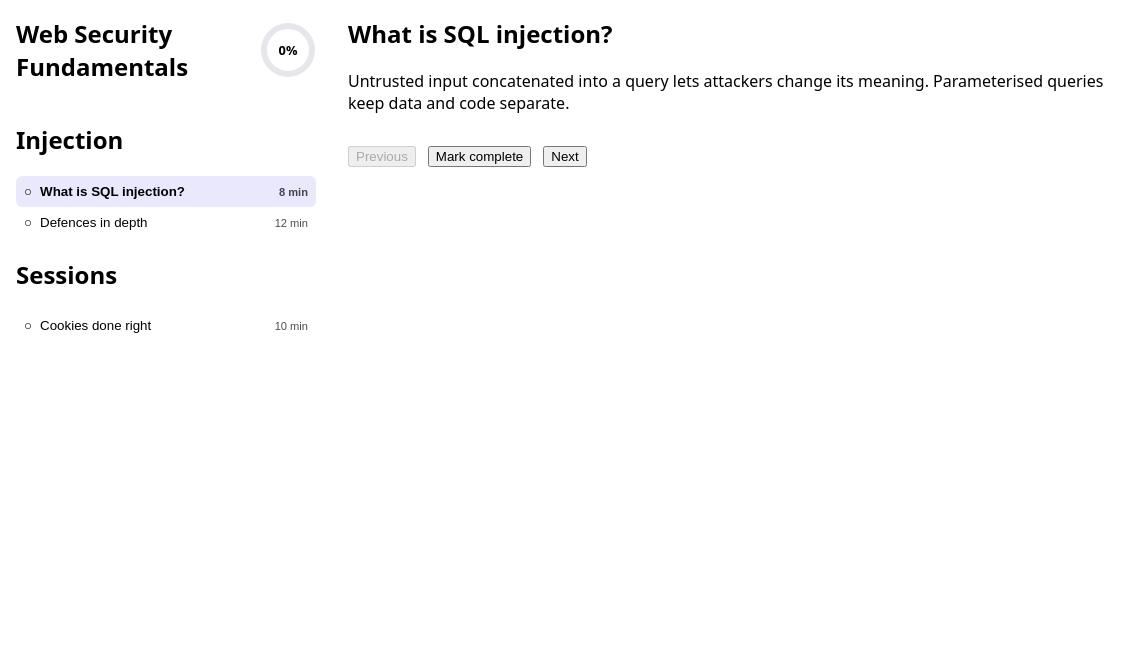
Test: CoursePlayer › gates completion on the quiz, tracks progress and persists it
Later steps or results of the test are not shown.
Expected: the heading "What is SQL injection?" is shown, [348,17,612,50]
Click the button "Mark complete".
click(480, 156)  # box [428,146,531,167]
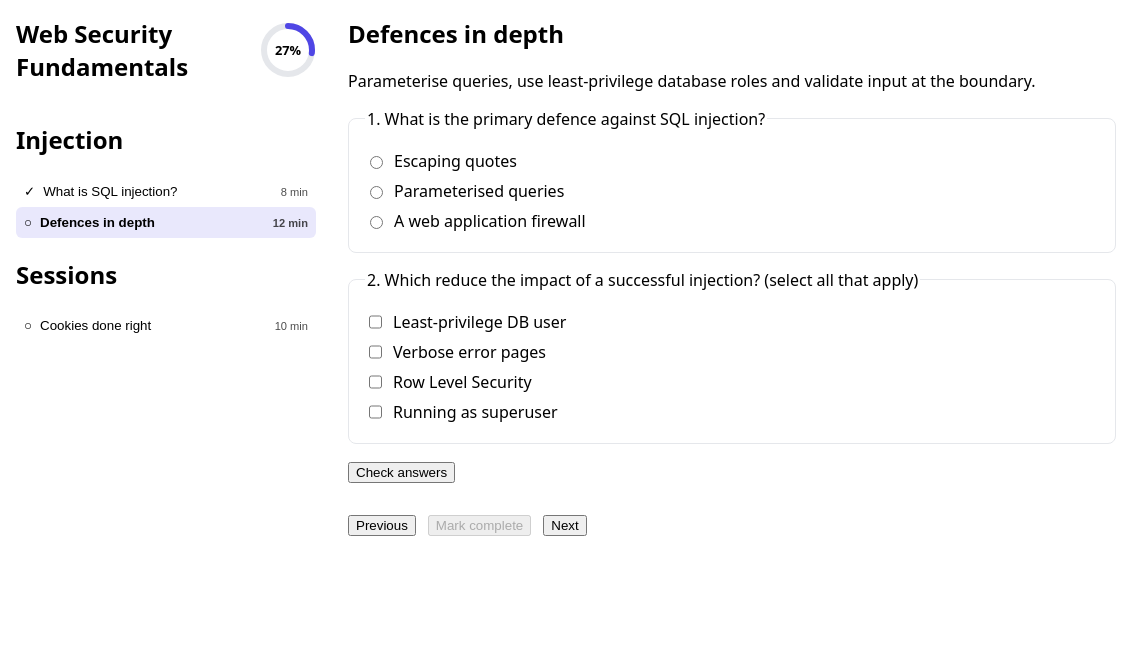
Expected: the button "Mark complete" is disabled, [428,515,531,536]
Click the radio button labelled "Parameterised queries".
click(376, 192)  # box [370,183,383,202]
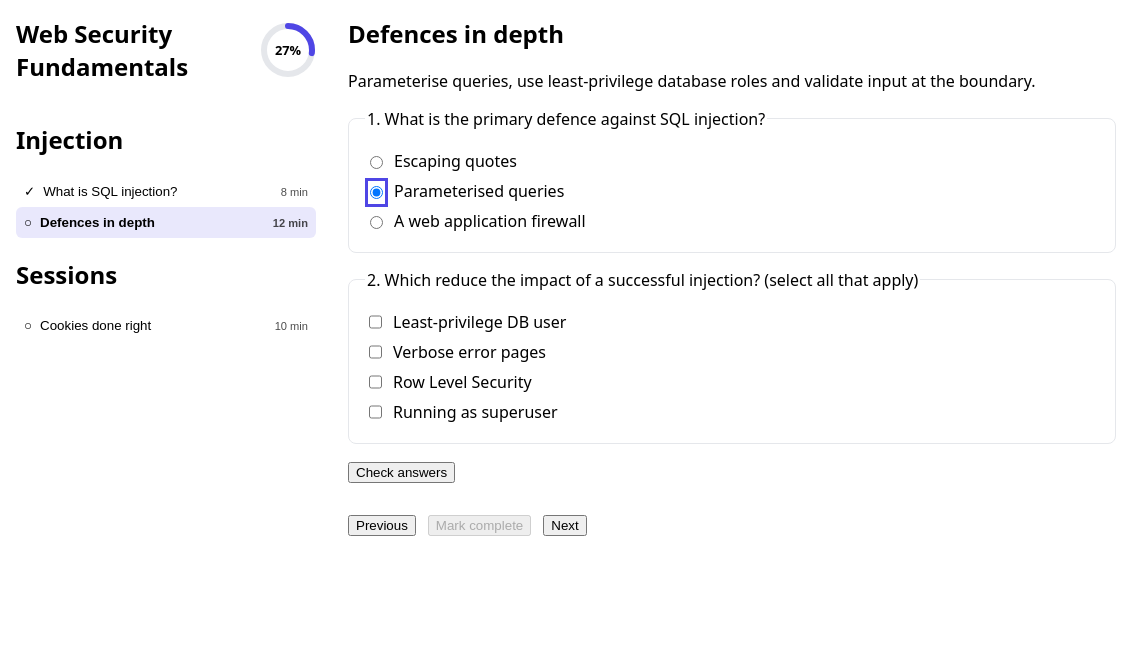
Click the checkbox labelled "Least-privilege DB user".
click(376, 322)  # box [369,314,382,330]
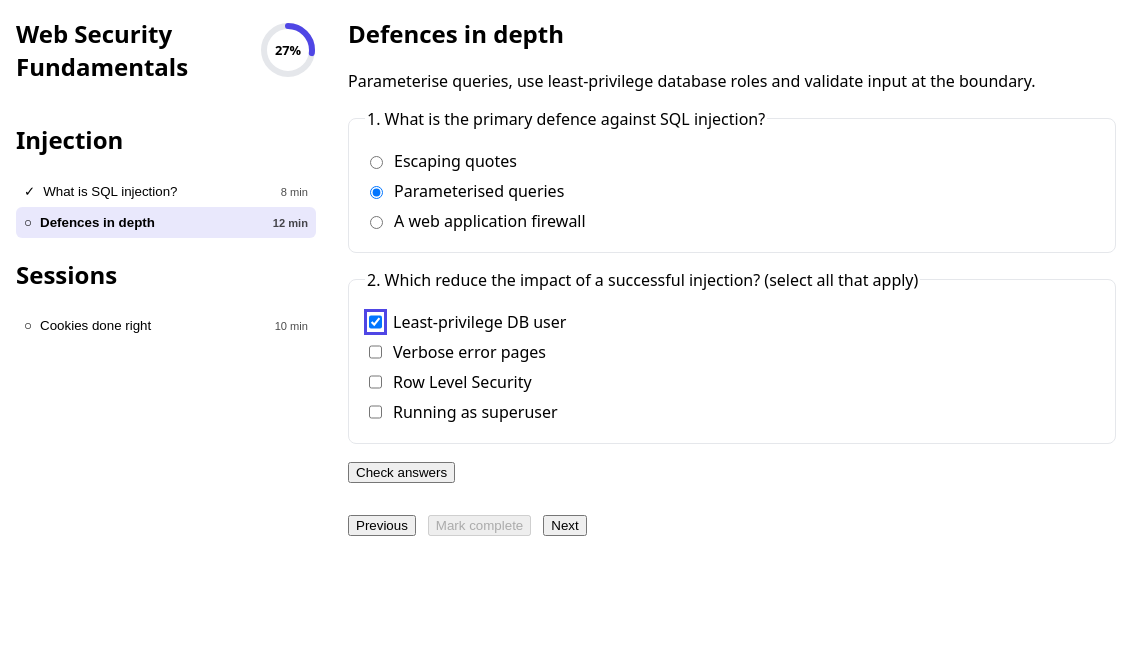
Click the checkbox labelled "Row Level Security".
click(376, 382)  # box [369,374,382,390]
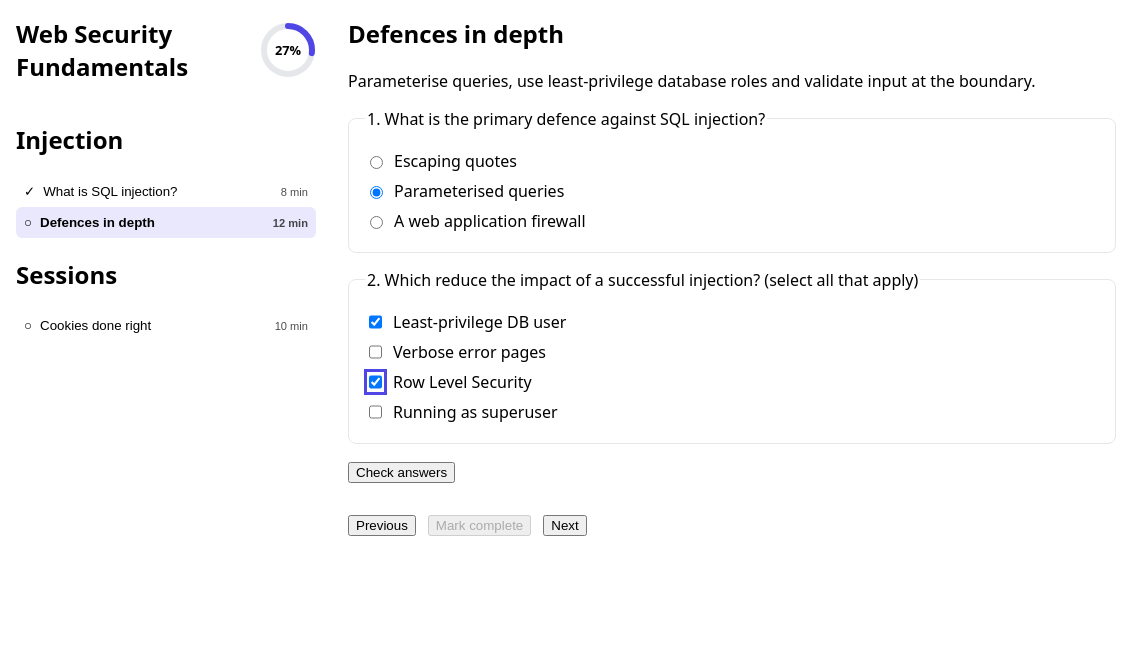
Click the button "Check answers".
click(402, 472)  # box [348,462,455,483]
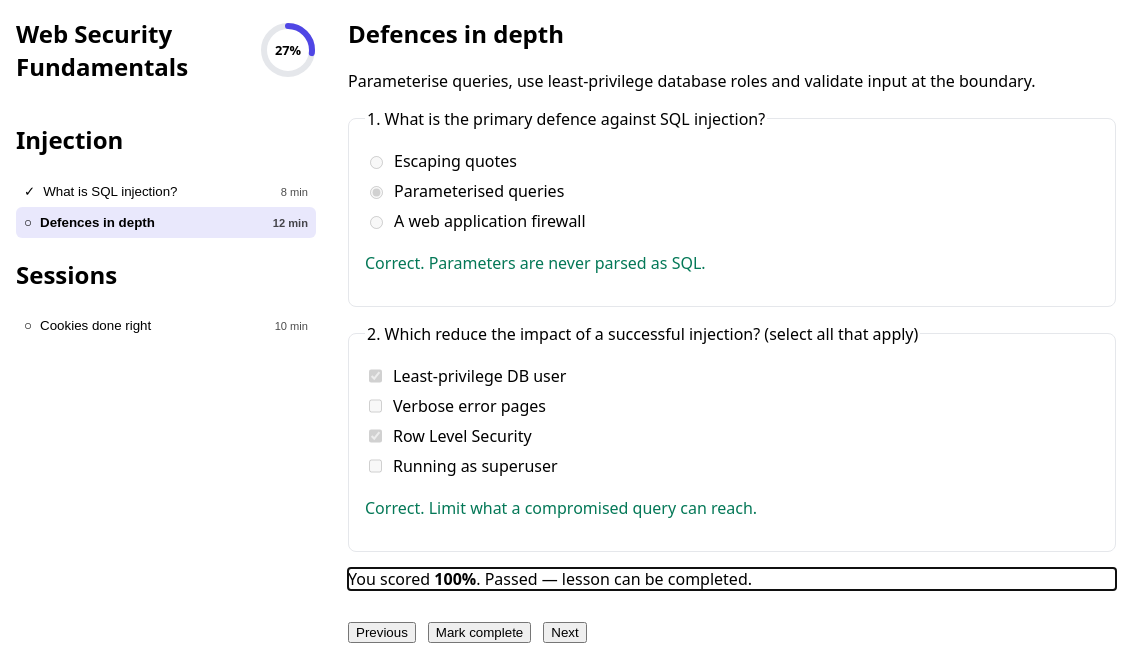
Click the button "Mark complete".
click(480, 632)  # box [428,622,531,643]
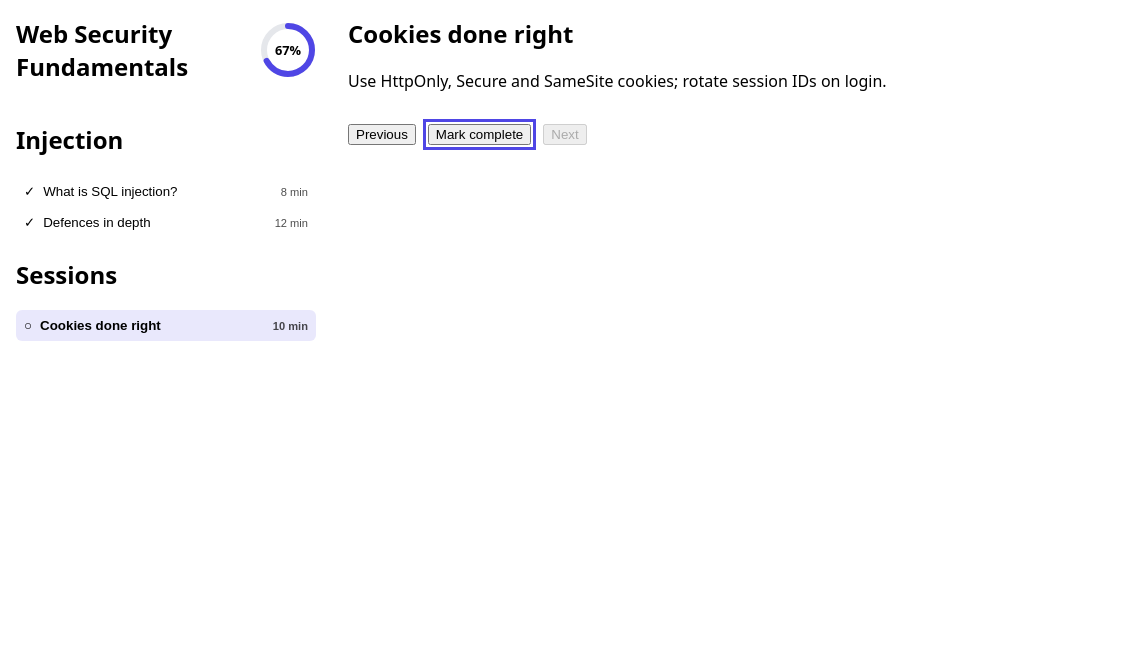
Expected: the progress indicator has attribute aria-valuenow="67", [260,22,316,78]
